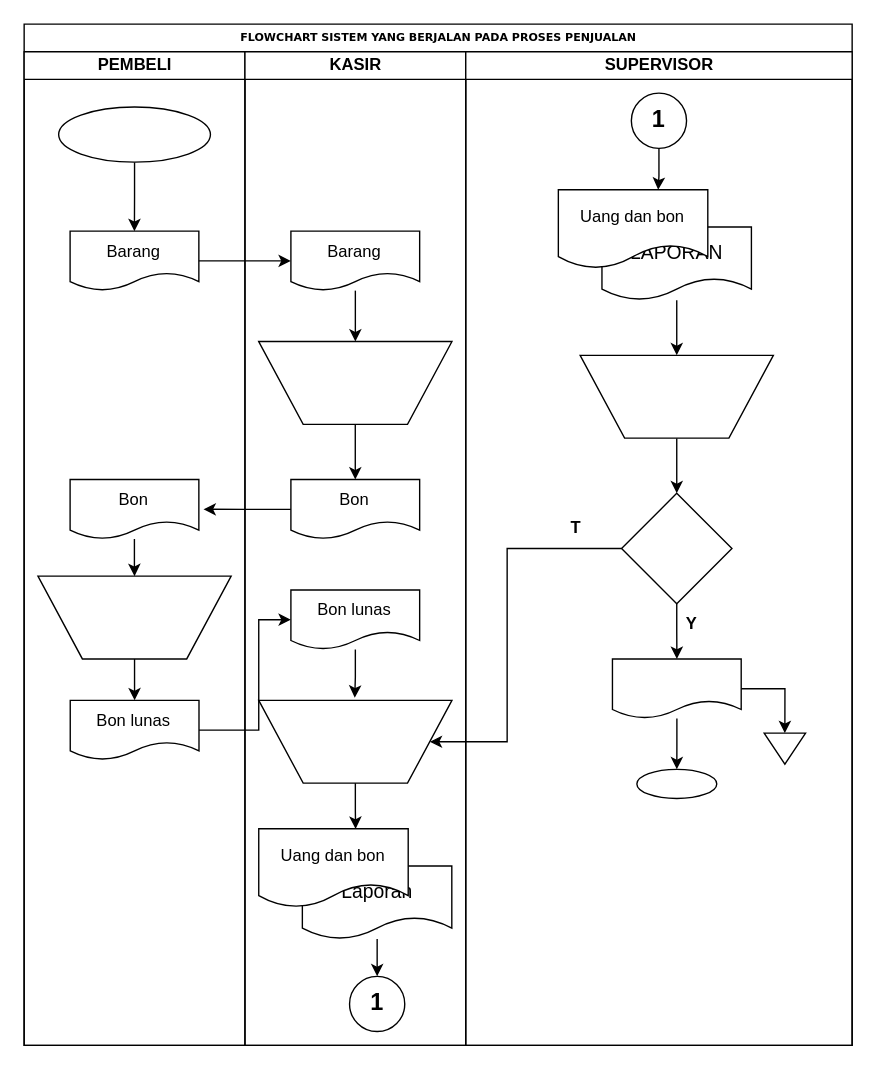
Some shapes in this 876 by 1070 pixel diagram are drawn without their labels. Each missing label, with the centre of its shape:
"END" goes at pixel 676 783.
"Laporan acc" goes at pixel 676 688.
"Memeriksa jumlah uang dan bon" goes at pixel 676 396.
"Menghitung barang dan buat bon" goes at pixel 354 382.
"menghitung uang dan membuat laporan" goes at pixel 354 741.
"proses pembayaran barang" goes at pixel 134 617.
"SELESAI ?" goes at pixel 676 548.
"START" goes at pixel 133 134.
